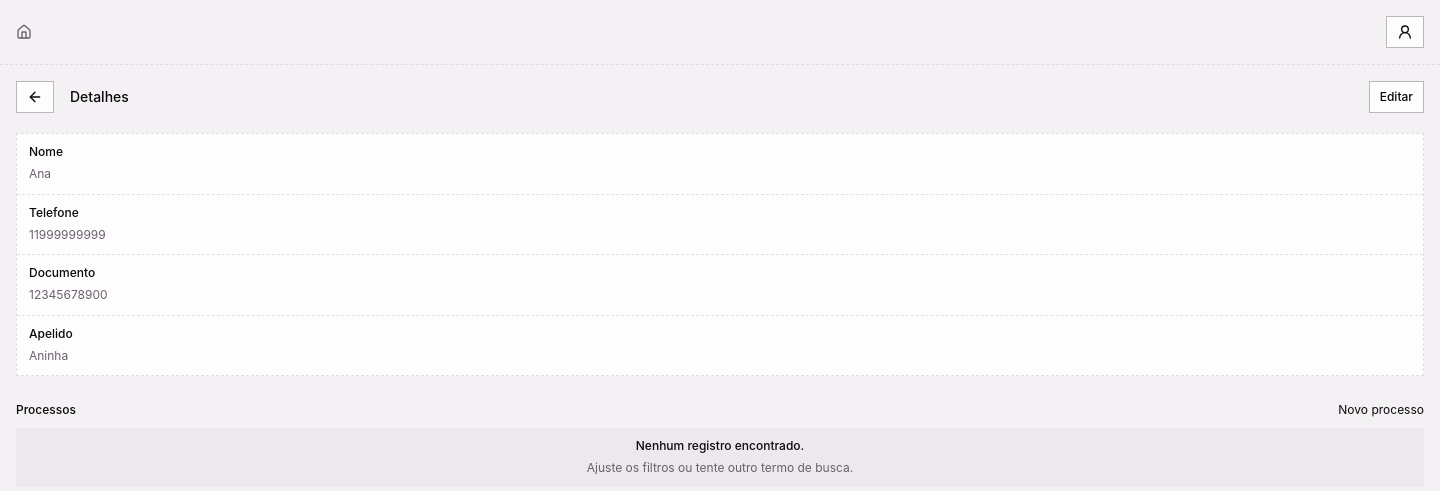
Test: CustomerDetailsPage — edit mode (T24, WEB-06) › WEB-06 AC2: a valid save persists via PATCH /customers/:id and reflects the new values in the detail view without a manual reload
This screenshot has width=1440, height=491.
Check: the text "Ana" is shown, box [29,166,51,181]
Click the button "Editar" at point(1396, 97), box [1369,81,1424,113]
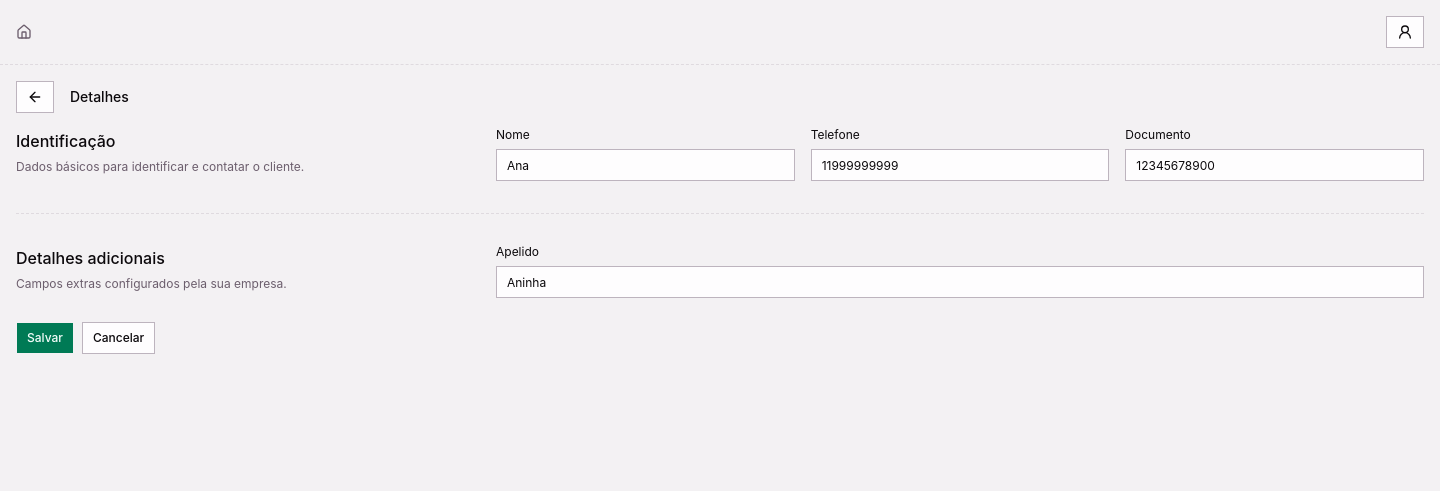
Replace the text in the field labelled "Nome" with "Ana Nova" at point(645, 165), box [496,149,795,181]
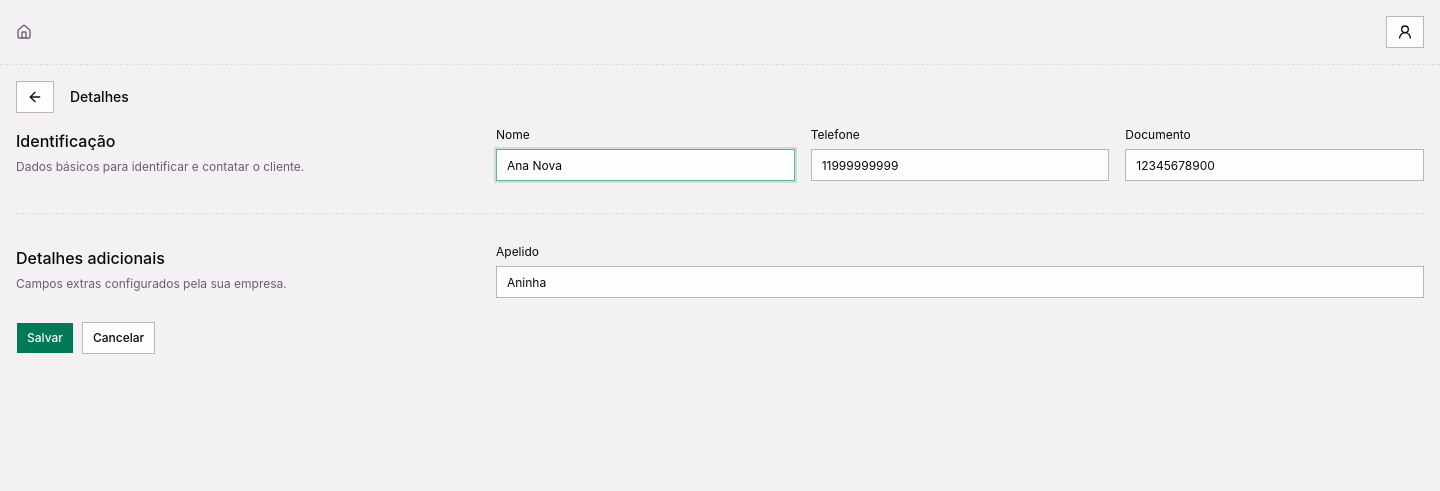
Click the button "Salvar" at point(45, 338), box [16,322,74,354]
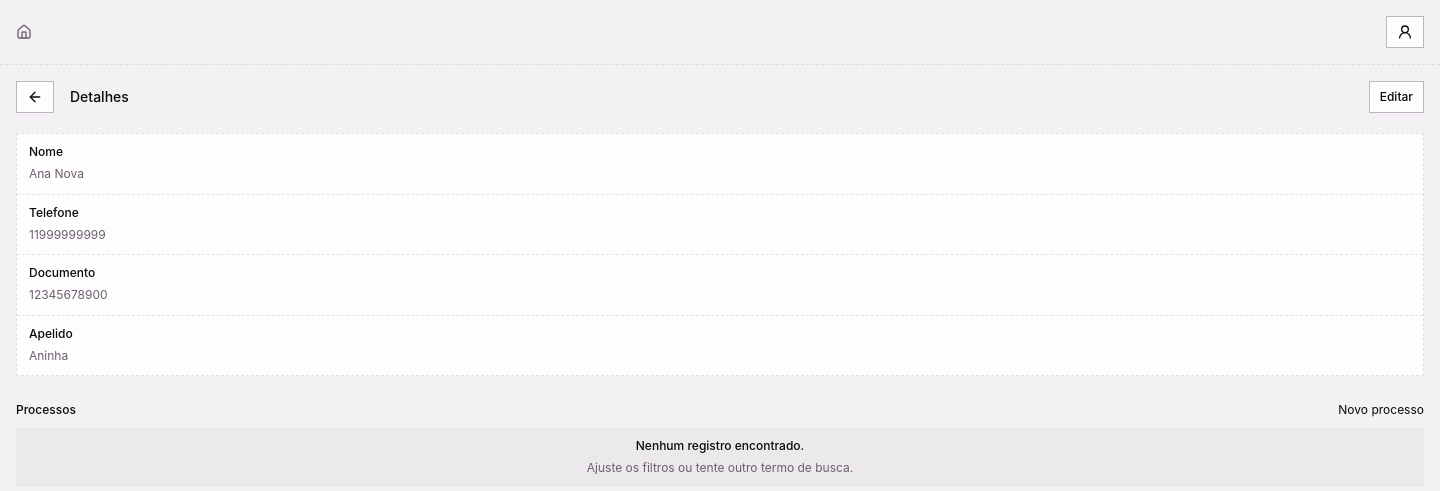
Check: the text "Ana Nova" is shown, box [29,166,84,181]
